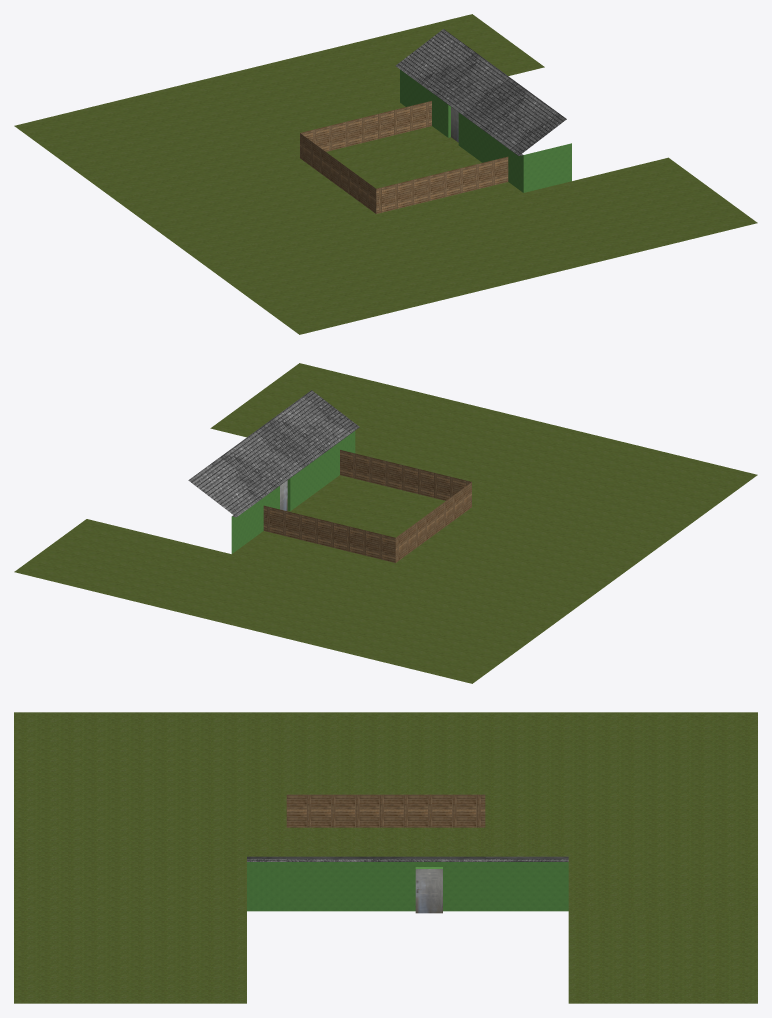
The model's file is backyard.obj.
3 views of the same model, one above another, from view 1: azimuth 30°, elevation 25°; view 2: azimuth 150°, elevation 25°; view 3: azimuth 270°, elevation 25° (orthographic). The views are drawn at different scales.
Parts seen in each view (by area): view 1: Plane; view 2: Plane; view 3: Plane.
Part boxes in pixels (x1,y1,x2,y2): Plane: (14,14,757,334); Plane: (14,363,757,683); Plane: (14,712,757,1003).
Bounding box in the file's own units: 37.93 × 5 × 40.93.
